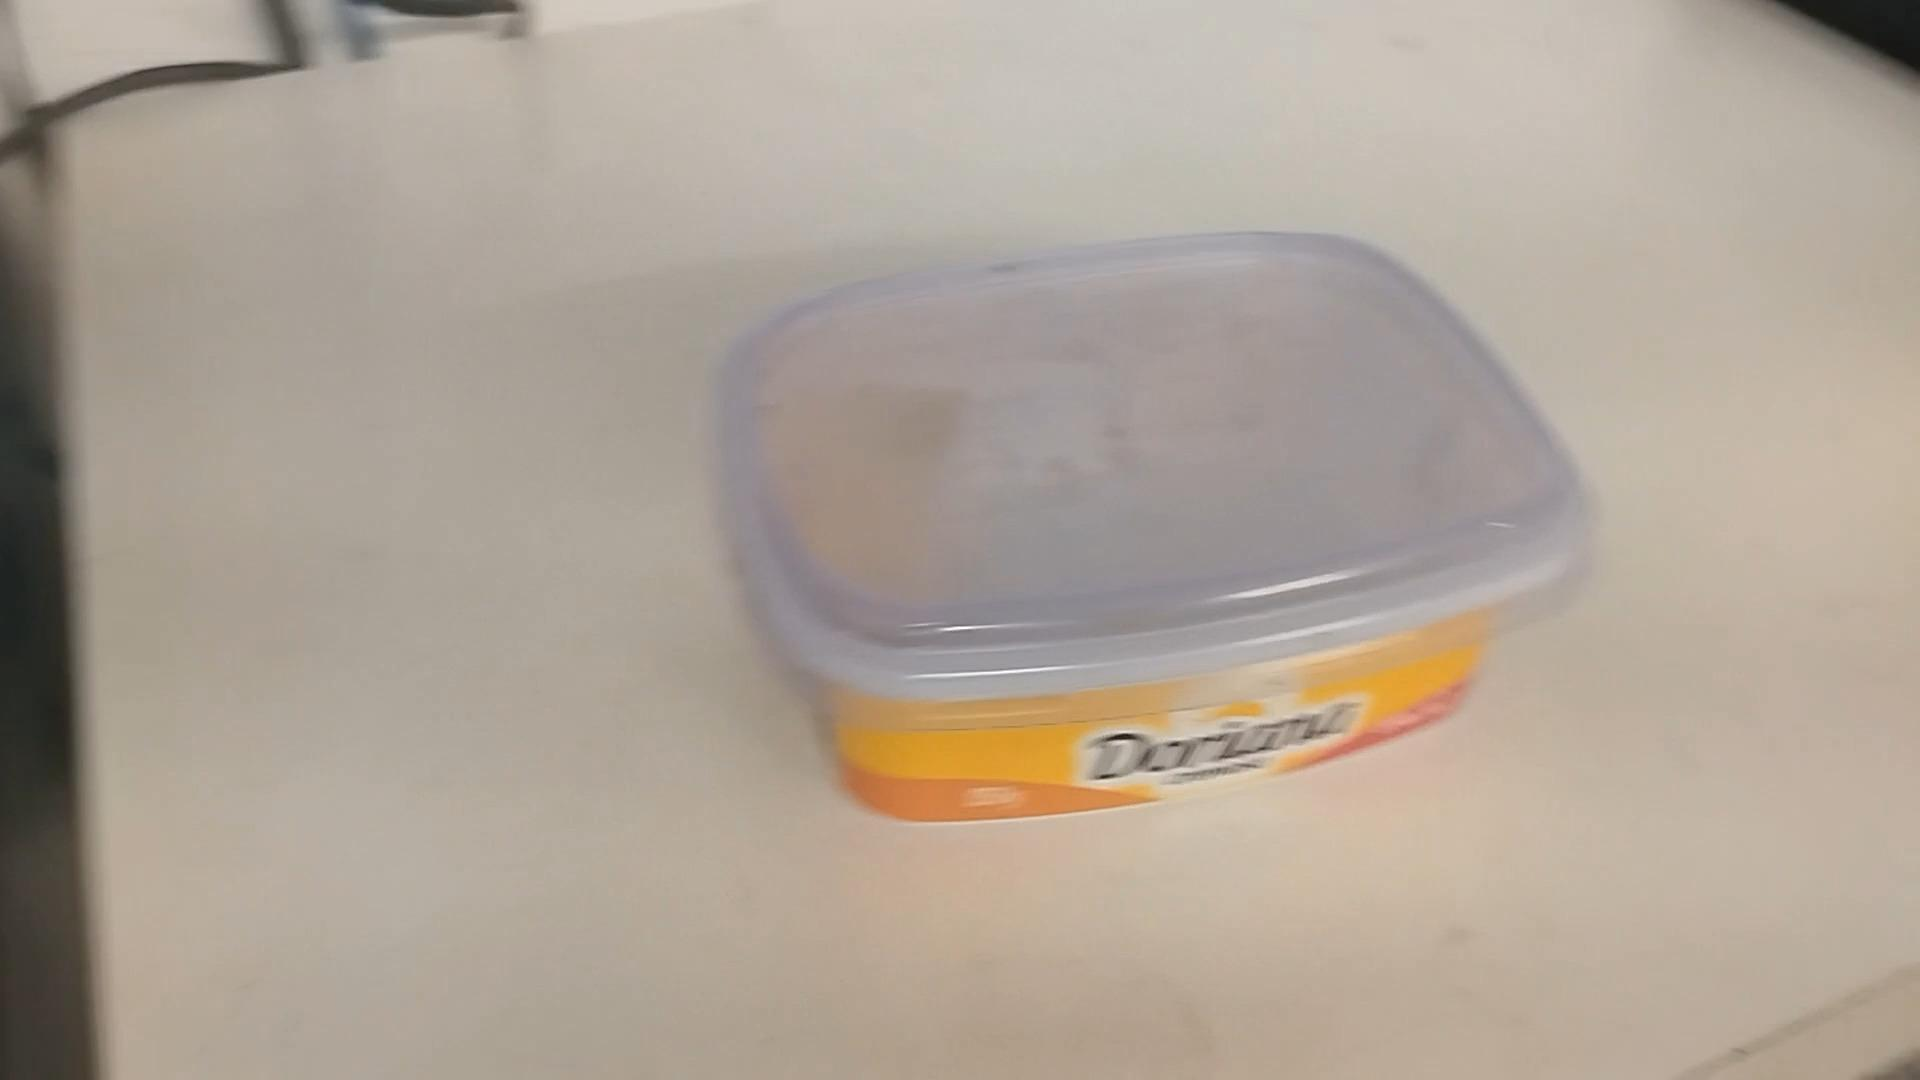butter: (716, 236, 1597, 827)
